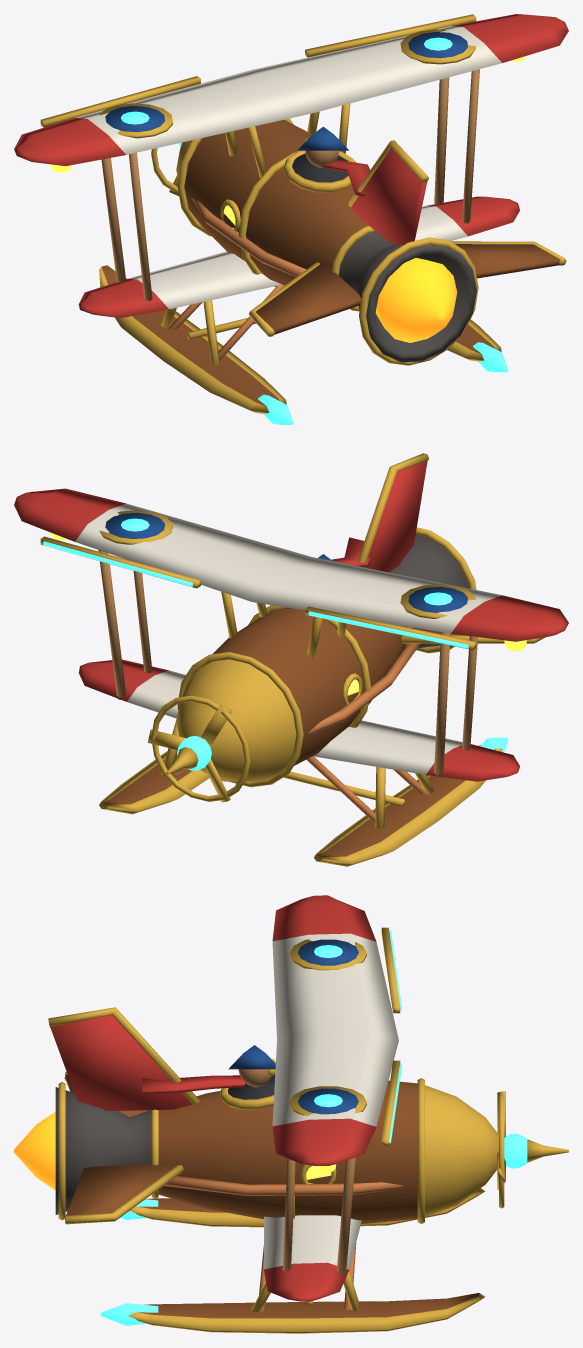
File: ninteenth_cen_biplane.glb
The picture shows the model from 3 angles, top to bottom: view 1: azimuth 30°, elevation 25°; view 2: azimuth 150°, elevation 25°; view 3: azimuth 270°, elevation 25°; orthographic projection.
Parts seen in each view (by area): view 1: RocketBiplaneHull, HoverPontoons; view 2: RocketBiplaneHull, HoverPontoons, AetherSpinner; view 3: RocketBiplaneHull, HoverPontoons, AetherSpinner.
Part boxes in pixels (box(x1,y1,x2,y2)): RocketBiplaneHull: box(14, 14, 568, 365); HoverPontoons: box(99, 265, 508, 424); RocketBiplaneHull: box(14, 453, 568, 787); HoverPontoons: box(99, 719, 508, 866); AetherSpinner: box(147, 695, 250, 802); RocketBiplaneHull: box(14, 895, 498, 1301); HoverPontoons: box(100, 1188, 485, 1333); AetherSpinner: box(497, 1091, 568, 1208).
Bounding box in the file's own units: 3.98 × 1.82 × 3.46.
